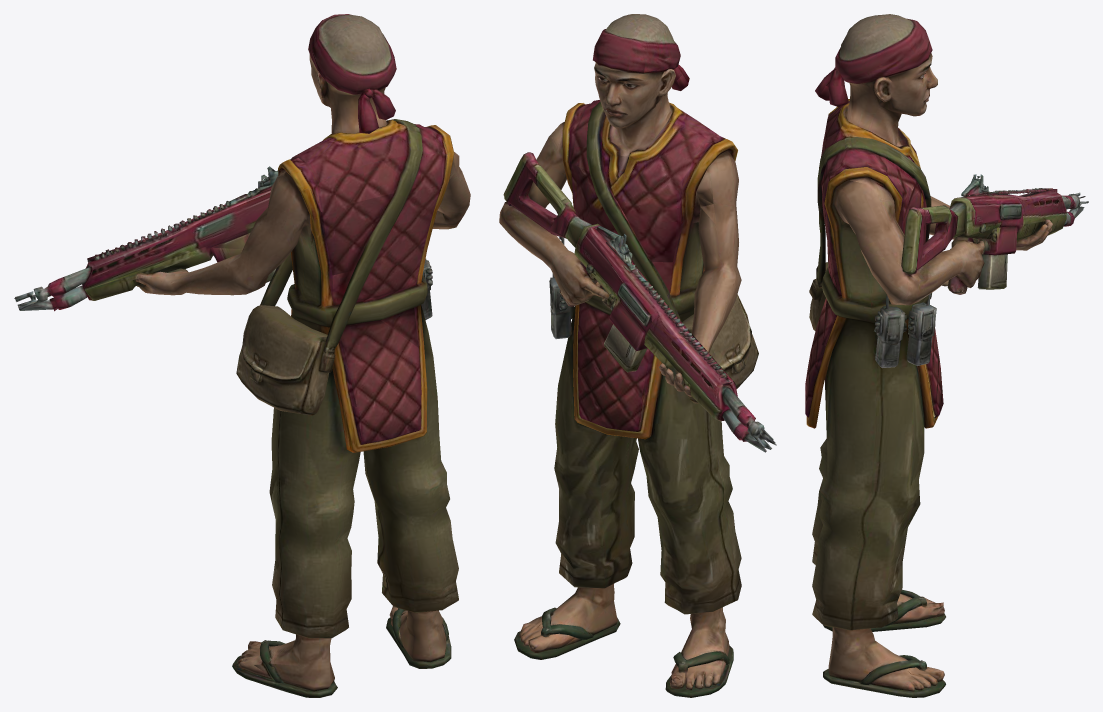
File: printsmith.glb
3 renders of one model, left to right at view 1: azimuth 30°, elevation 25°; view 2: azimuth 150°, elevation 25°; view 3: azimuth 270°, elevation 25°, orthographic.
Visible parts, largest first — view 1: Body, Trim; view 2: Body, Trim; view 3: Body, Trim.
Boxes of the visible parts, bbox=[...] form: Body: bbox=[14, 14, 470, 697]; Trim: bbox=[44, 14, 447, 674]; Body: bbox=[499, 14, 776, 697]; Trim: bbox=[505, 29, 755, 685]; Body: bbox=[805, 14, 1088, 697]; Trim: bbox=[805, 18, 1076, 690].
Bounding box in the file's own units: 1.07 × 1.8 × 0.7292.
Materials: 2 (2 with a texture image).
